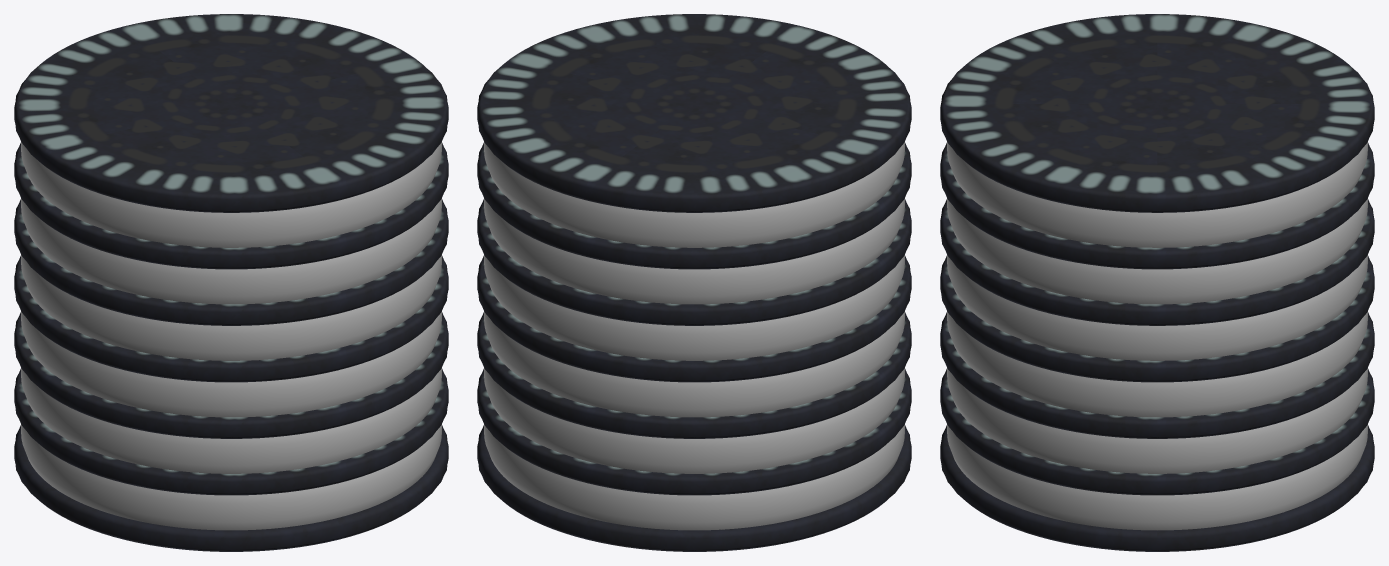
The model's file is SM_CookiePlatform.fbx.
3 renders of one model, left to right at view 1: azimuth 30°, elevation 25°; view 2: azimuth 150°, elevation 25°; view 3: azimuth 270°, elevation 25°, orthographic.
Parts seen in each view (by area): view 1: CookiePlatform; view 2: CookiePlatform; view 3: CookiePlatform.
Part boxes in pixels (x1,y1,x2,y2): CookiePlatform: (14,14,448,551); CookiePlatform: (477,14,911,551); CookiePlatform: (940,14,1374,551).
Bounding box in the file's own units: 392 × 357 × 392.
Materials: 1 (1 with a texture image).
